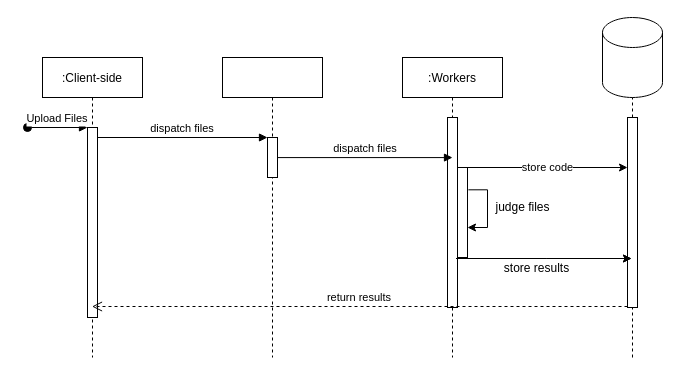
Some shapes in this 680 by 376 pixel diagram are drawn without their labels. Here are the shapes that lost their labels. From the top down, the box of each, then its label:
(602, 16, 662, 98): DB
(222, 56, 322, 358): :Queueing pipeline
